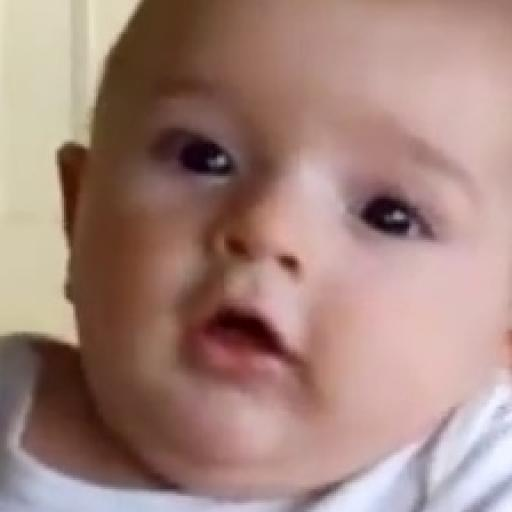Autism: (103, 2, 512, 500)
